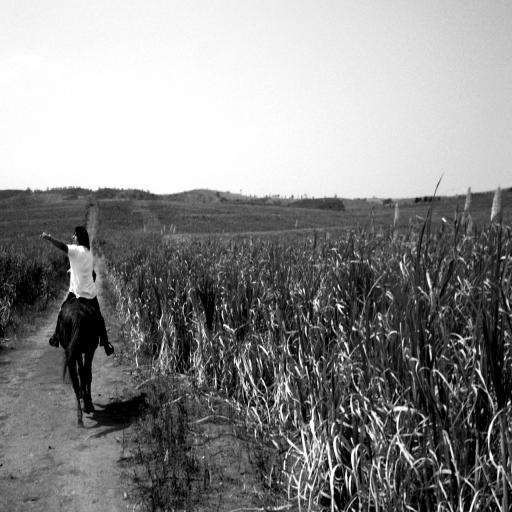horse: (54, 296, 108, 430)
